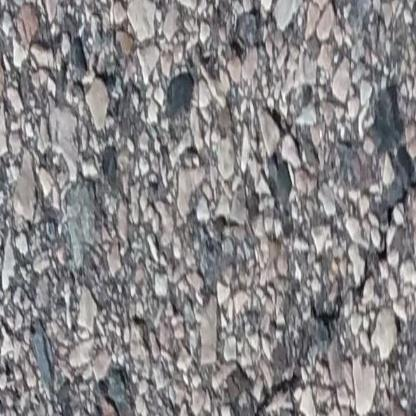Cracks: (305, 162, 416, 340), (235, 371, 304, 416)
